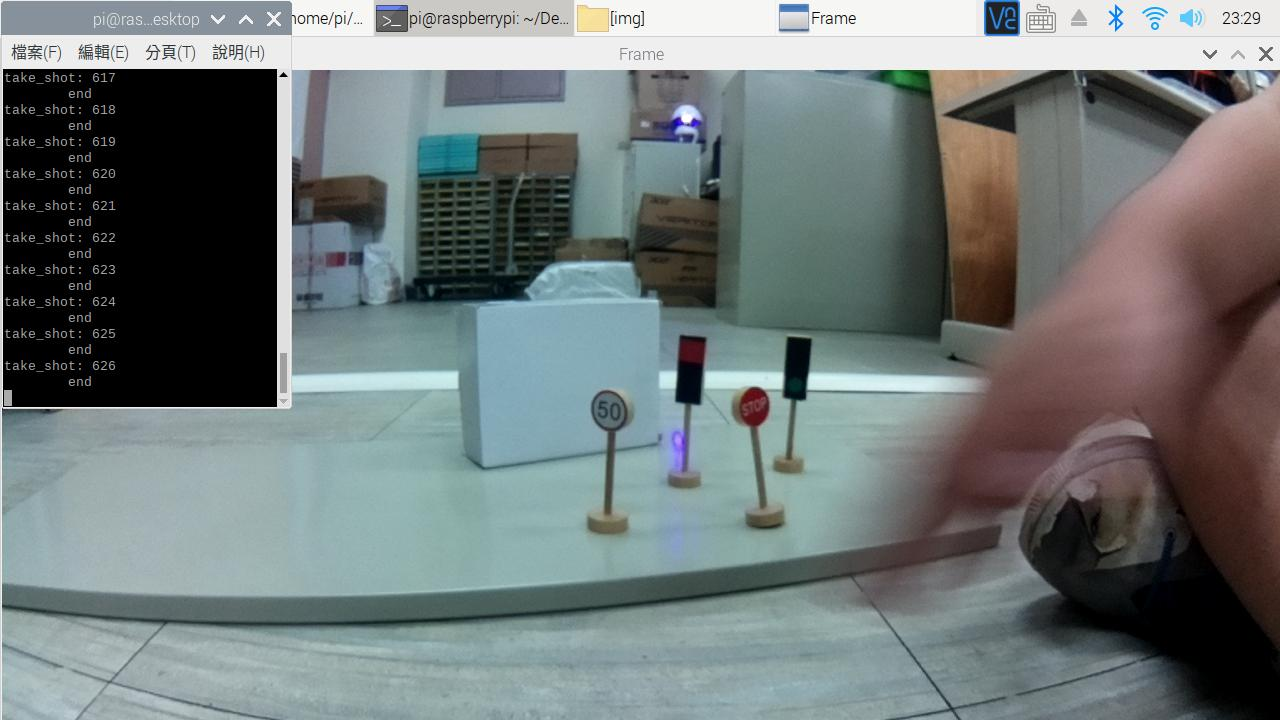Green: (770, 327, 821, 408)
Red: (669, 325, 714, 413)
Speed50: (574, 379, 642, 439)
Stop: (731, 385, 773, 438)
